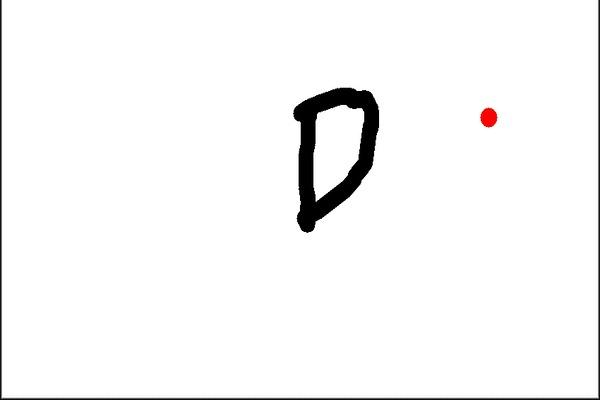D: (288, 81, 383, 237)
